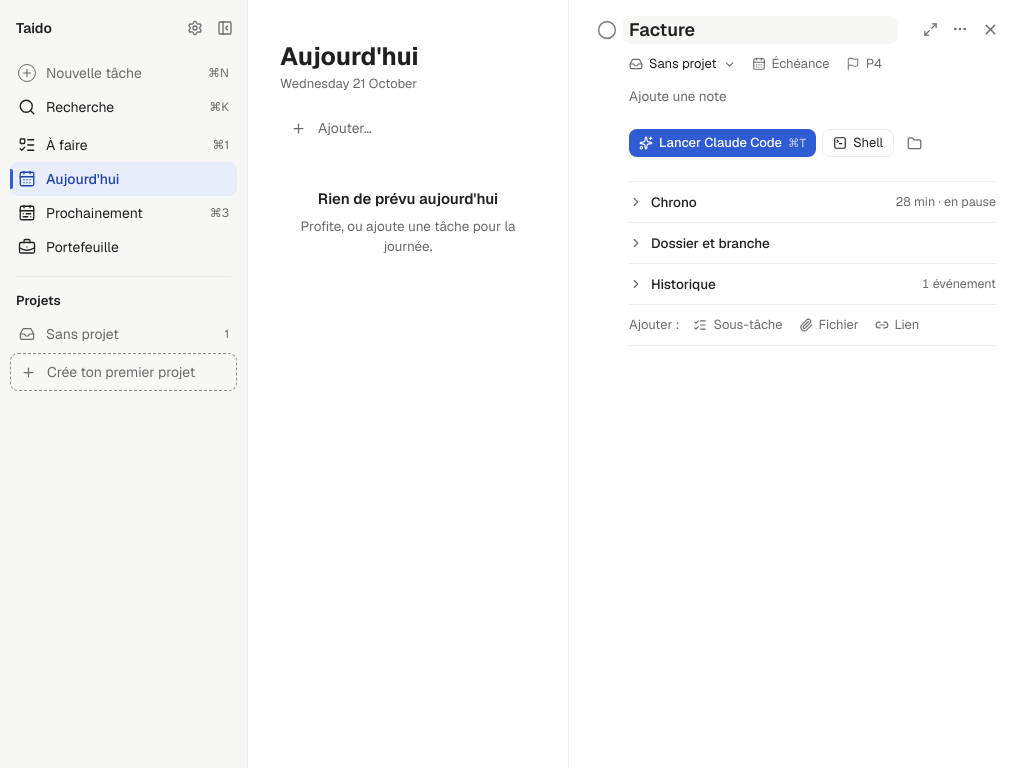
Scenario: task panel, layout C › shows the last chrono lines and the rest on demand
Check: the text box named "Titre de la tâche" is shown, box [623, 16, 898, 44]
Click the button "Chrono 28 min · en pause" at (674, 202), box [629, 182, 996, 222]
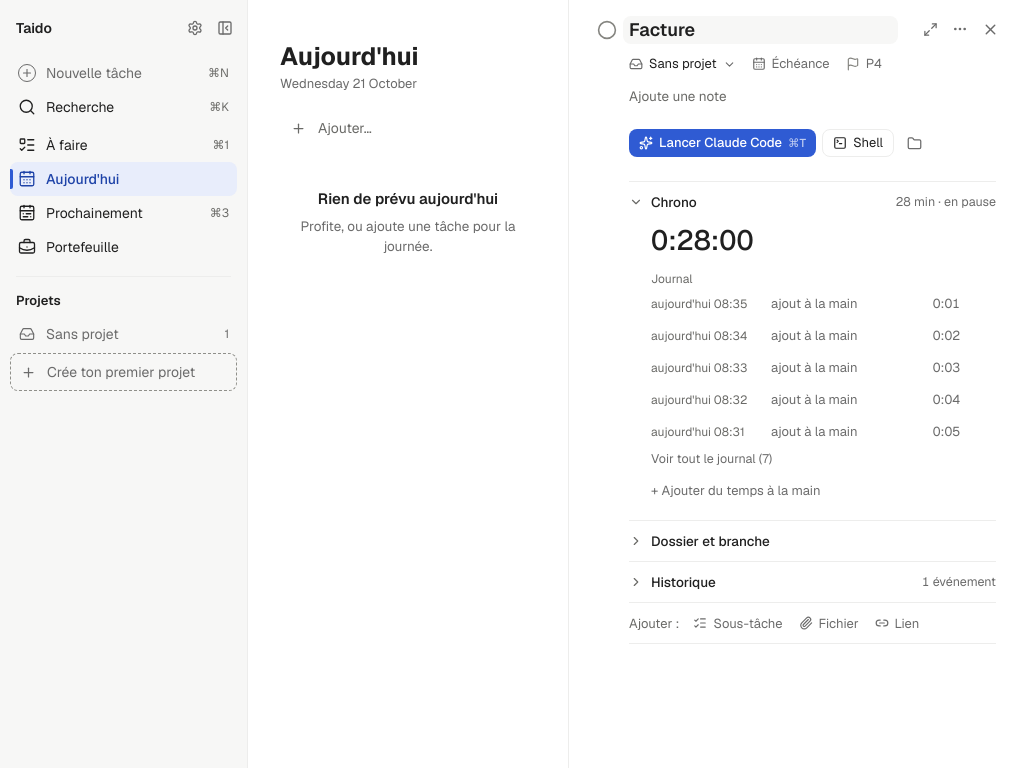
Check: the number of list items is 5, box [651, 295, 960, 312]; [651, 327, 960, 344]; [651, 359, 960, 376]; [651, 391, 960, 408]; [651, 423, 960, 440]
Click the button "Voir tout le journal (7)" at (712, 459), box [647, 448, 776, 471]
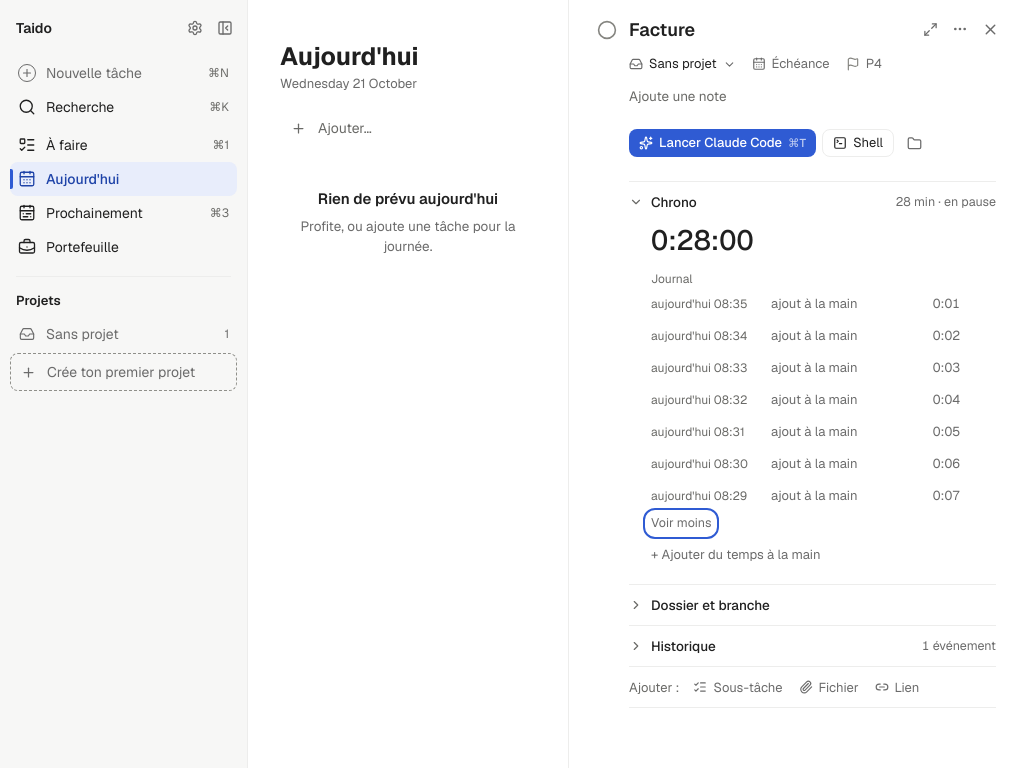
Check: the number of list items is 7
